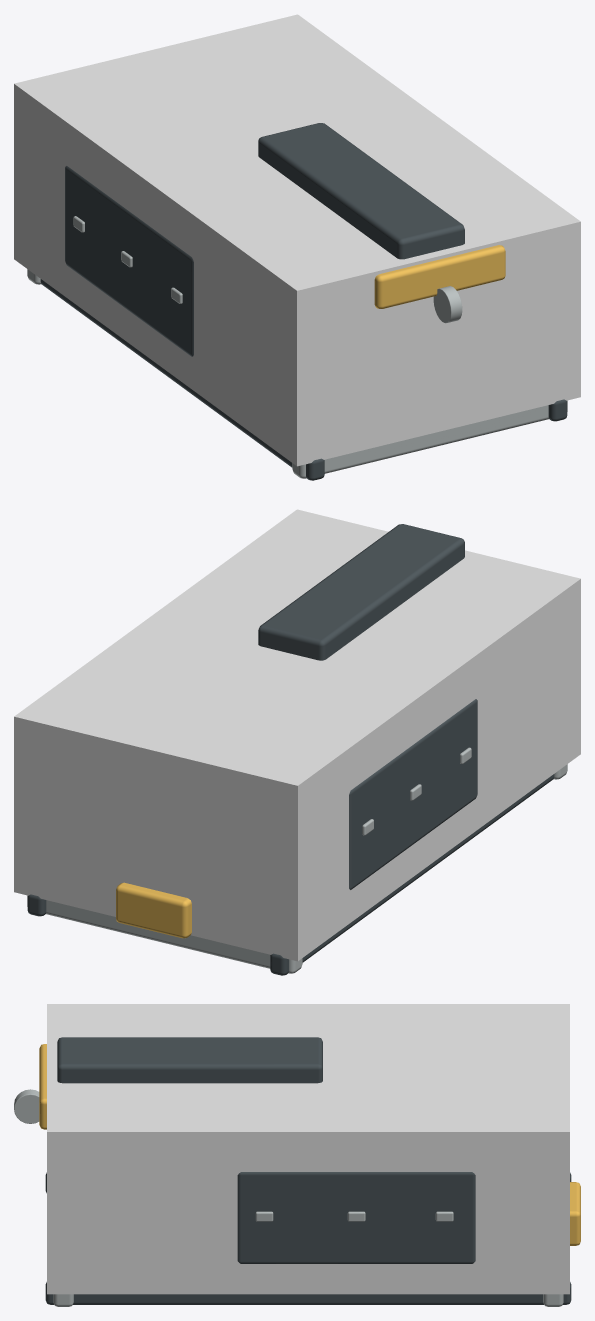
File: Module_Towing.fbx
The picture shows the model from 3 angles, top to bottom: view 1: azimuth 30°, elevation 25°; view 2: azimuth 150°, elevation 25°; view 3: azimuth 270°, elevation 25°; orthographic projection. The views are drawn at different scales.
Parts seen in each view (by area): view 1: COL_Body, Boom reinforcement, Side equipment locker, Recovery boom, Load frame cross rail, Load frame longitudinal, Tow hook; view 2: COL_Body, Boom reinforcement, Side equipment locker, Load frame cross rail.001, Hydraulic and electric coupling block, Load frame longitudinal; view 3: COL_Body, Side equipment locker.001, Boom reinforcement, Load frame longitudinal.001, Tow hook, Hydraulic and electric coupling block, Recovery boom.
Part boxes in pixels (left/top/right/bottom): COL_Body: left=14, top=14, right=580, bottom=466; Boom reinforcement: left=258, top=123, right=464, bottom=259; Side equipment locker: left=65, top=166, right=193, bottom=356; Recovery boom: left=374, top=245, right=505, bottom=308; Load frame cross rail: left=292, top=400, right=567, bottom=478; Load frame longitudinal: left=40, top=279, right=324, bottom=480; Tow hook: left=433, top=286, right=462, bottom=323; COL_Body: left=14, top=509, right=580, bottom=961; Boom reinforcement: left=258, top=524, right=464, bottom=660; Side equipment locker: left=349, top=699, right=477, bottom=889; Load frame cross rail.001: left=27, top=895, right=302, bottom=973; Hydraulic and electric coupling block: left=116, top=882, right=191, bottom=938; Load frame longitudinal: left=270, top=774, right=554, bottom=975; COL_Body: left=47, top=1004, right=569, bottom=1294; Side equipment locker.001: left=237, top=1172, right=475, bottom=1263; Boom reinforcement: left=57, top=1037, right=322, bottom=1083; Load frame longitudinal.001: left=45, top=1282, right=571, bottom=1304; Tow hook: left=14, top=1089, right=39, bottom=1123; Hydraulic and electric coupling block: left=570, top=1182, right=580, bottom=1245; Recovery boom: left=39, top=1044, right=46, bottom=1129.
Size of the model in its own units: 2.27 by 1.58 by 4.12.
